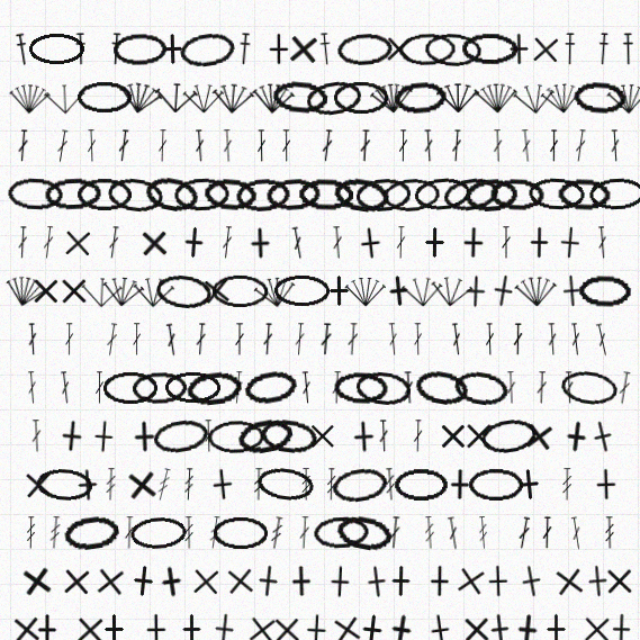chain: (231, 377, 284, 414), (319, 463, 372, 500), (156, 378, 210, 414), (149, 162, 201, 199), (237, 334, 289, 371), (389, 334, 441, 371), (180, 34, 233, 70), (292, 77, 345, 113), (414, 163, 467, 199), (315, 421, 368, 457), (519, 335, 573, 370), (317, 163, 369, 199), (424, 335, 476, 371), (252, 378, 305, 413), (249, 421, 302, 456), (448, 378, 500, 413), (77, 464, 129, 499), (116, 164, 168, 198), (159, 250, 211, 284), (186, 336, 238, 370), (337, 336, 389, 370), (389, 164, 442, 197), (53, 423, 106, 455), (263, 78, 314, 111), (362, 165, 414, 197), (321, 36, 372, 68), (399, 36, 450, 68), (337, 165, 388, 197), (137, 466, 188, 498), (491, 165, 543, 196), (371, 79, 421, 111), (202, 165, 252, 197), (231, 165, 281, 197), (258, 165, 308, 197), (434, 165, 484, 197), (61, 165, 112, 196), (545, 165, 596, 196), (531, 79, 580, 111), (206, 381, 258, 411), (28, 165, 78, 196), (176, 165, 226, 196), (300, 466, 350, 497), (376, 37, 427, 67), (457, 166, 507, 196), (139, 338, 189, 368), (318, 338, 368, 368), (210, 252, 261, 281), (122, 37, 171, 67), (287, 166, 336, 196), (517, 166, 566, 196), (47, 37, 97, 66), (432, 37, 482, 66), (90, 80, 140, 109), (265, 252, 315, 281), (113, 338, 163, 367), (168, 338, 218, 367), (211, 467, 261, 496), (536, 252, 584, 282), (318, 80, 367, 109), (90, 166, 139, 195), (372, 424, 421, 453), (438, 424, 487, 453)
double: (550, 295, 565, 325), (570, 338, 584, 368), (418, 467, 432, 497), (481, 467, 495, 497), (71, 123, 84, 153), (280, 209, 293, 239), (115, 295, 128, 325), (168, 295, 181, 325), (528, 467, 541, 497), (126, 123, 138, 152), (307, 123, 319, 152), (484, 123, 496, 152), (532, 123, 544, 152), (59, 209, 71, 238), (117, 209, 129, 238), (218, 209, 230, 238), (316, 209, 328, 238), (306, 295, 318, 324), (422, 295, 434, 324), (528, 295, 540, 324), (74, 338, 86, 367), (367, 467, 379, 496), (37, 123, 48, 152), (194, 123, 205, 152), (219, 123, 230, 152), (341, 123, 352, 152), (459, 123, 470, 152), (552, 209, 563, 238), (195, 295, 206, 324), (283, 295, 294, 324), (330, 295, 341, 324), (366, 295, 377, 324), (45, 338, 56, 367), (228, 338, 239, 367), (289, 338, 300, 367), (316, 338, 327, 367), (380, 338, 391, 367), (471, 338, 482, 367), (498, 338, 509, 367), (49, 381, 60, 410), (287, 467, 298, 496), (398, 123, 408, 152), (423, 123, 433, 152), (564, 123, 574, 152), (37, 209, 47, 238), (467, 209, 477, 238), (46, 295, 56, 324), (230, 295, 240, 324), (255, 295, 265, 324), (508, 295, 518, 324), (523, 338, 533, 367), (358, 381, 368, 410), (132, 467, 142, 496), (99, 123, 108, 152), (162, 123, 171, 152), (250, 123, 259, 152), (272, 123, 281, 152), (376, 123, 385, 152), (510, 123, 519, 152), (374, 209, 383, 238), (79, 295, 88, 324), (139, 295, 148, 324), (389, 295, 398, 324), (453, 295, 462, 324), (478, 295, 487, 324), (106, 338, 115, 367), (203, 381, 212, 410), (389, 381, 398, 410), (504, 467, 513, 496)
enseble_chain: (590, 277, 640, 362)
fan: (23, 248, 66, 285), (125, 77, 168, 113), (246, 250, 287, 284), (350, 78, 391, 111), (501, 78, 542, 111), (111, 250, 152, 283), (403, 250, 444, 283), (209, 79, 249, 111), (245, 79, 285, 111), (477, 79, 517, 111), (159, 79, 198, 110), (444, 79, 483, 110), (378, 251, 417, 282), (479, 251, 518, 282), (29, 80, 68, 110), (60, 80, 99, 110), (561, 80, 600, 110), (93, 252, 132, 282), (139, 252, 178, 282), (184, 80, 222, 109), (410, 80, 448, 109), (328, 252, 366, 281)
half_double: (34, 37, 49, 67), (233, 37, 246, 66), (305, 37, 318, 66), (552, 37, 565, 66), (119, 37, 131, 66), (88, 37, 99, 66), (523, 37, 534, 66), (575, 37, 586, 66)
noise: (601, 175, 624, 198), (3, 412, 20, 429), (0, 78, 10, 94)
single: (541, 379, 575, 413), (453, 250, 486, 283), (38, 508, 71, 541), (424, 508, 457, 541), (478, 508, 511, 541), (314, 551, 347, 584), (335, 208, 367, 240), (485, 380, 517, 412), (518, 380, 550, 412), (132, 423, 164, 455), (104, 509, 136, 541), (341, 509, 373, 541), (512, 509, 544, 541), (239, 552, 271, 584), (337, 552, 369, 584), (363, 552, 395, 584), (397, 552, 429, 584), (159, 509, 190, 541), (276, 36, 307, 67), (179, 208, 210, 239), (513, 208, 544, 239), (199, 251, 230, 282), (361, 251, 392, 282), (515, 251, 546, 282), (70, 380, 101, 411), (204, 423, 235, 454), (477, 423, 508, 454), (134, 509, 165, 540), (220, 509, 251, 540), (245, 509, 276, 540), (538, 509, 569, 540), (30, 552, 61, 583), (206, 552, 237, 583), (451, 552, 482, 583), (475, 552, 506, 583), (492, 37, 522, 67), (76, 209, 106, 239), (144, 209, 174, 239), (238, 209, 268, 239), (430, 252, 460, 282), (99, 381, 129, 411), (135, 381, 165, 411), (330, 381, 360, 411), (41, 424, 71, 454), (85, 424, 115, 454), (75, 510, 105, 540), (190, 510, 220, 540), (309, 510, 339, 540), (87, 553, 117, 583), (262, 553, 292, 583), (288, 553, 318, 583), (161, 37, 190, 66), (255, 37, 284, 66), (362, 37, 391, 66), (469, 37, 498, 66), (394, 209, 423, 238), (428, 209, 457, 238), (487, 209, 516, 238), (48, 252, 77, 281), (73, 252, 102, 281), (309, 252, 338, 281), (294, 381, 323, 410), (410, 381, 439, 410), (433, 381, 462, 410), (416, 424, 445, 453), (546, 424, 575, 453), (275, 510, 304, 539), (364, 510, 393, 539), (398, 510, 427, 539), (450, 510, 479, 539), (558, 510, 587, 539), (49, 553, 78, 582), (109, 553, 138, 582), (146, 553, 175, 582), (178, 553, 207, 582), (431, 553, 460, 582), (502, 553, 531, 582), (538, 553, 567, 582), (560, 553, 589, 582)
treble: (160, 424, 175, 454), (261, 467, 275, 497), (363, 424, 375, 453), (65, 467, 77, 496), (207, 467, 219, 496), (398, 467, 410, 496), (115, 424, 126, 453), (446, 467, 457, 496), (185, 424, 195, 453), (247, 424, 257, 453), (289, 424, 299, 453), (521, 424, 531, 453), (185, 467, 195, 496), (559, 467, 569, 496), (312, 424, 321, 453), (45, 467, 54, 496)
